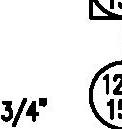instrumenttag: (88, 56, 122, 129), (89, 1, 122, 19)
